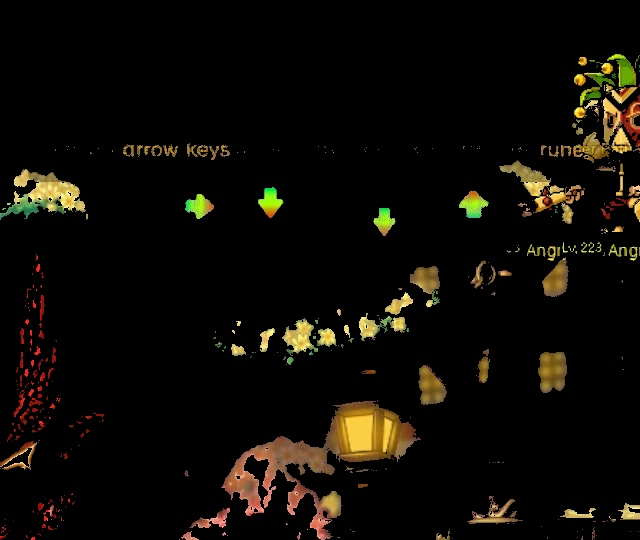down: (248, 179, 292, 223), (365, 201, 403, 241)
right: (175, 188, 222, 226)
up: (451, 183, 495, 231)
